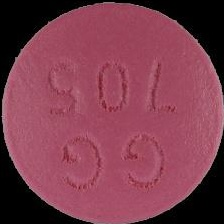53808-0776: (0, 0, 224, 224)
